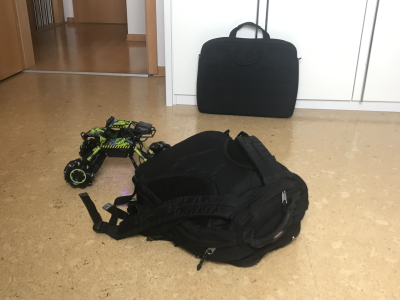remote control car: (63, 115, 174, 190)
